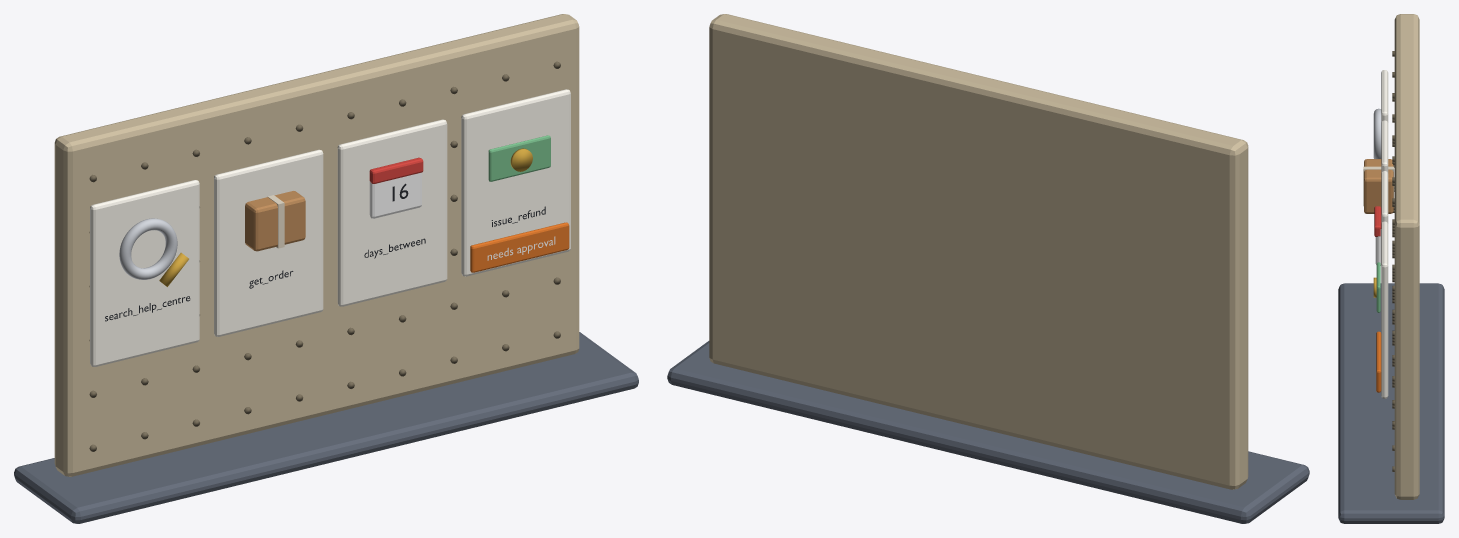
File: tools.glb
The picture shows the model from 3 angles, left to right: view 1: azimuth 30°, elevation 25°; view 2: azimuth 150°, elevation 25°; view 3: azimuth 270°, elevation 25°; orthographic projection. The views are drawn at different scales.
Visible parts, largest first — view 1: board, stand, card, card.002, card.001, card.003, tag, pk, rim, cal, note, h00 (+1 smaller); view 2: board, stand; view 3: stand, board, card.003, pk, h00, rim, card.001, card, card.002, tag, note, top (+2 smaller).
Boxes of the visible parts, x1,y1,x2,y2 form: board: (54, 14, 579, 476); stand: (14, 332, 638, 523); card: (90, 180, 199, 366); card.002: (337, 119, 447, 306); card.001: (214, 149, 323, 336); card.003: (461, 89, 570, 276); tag: (470, 222, 569, 272); pk: (245, 191, 305, 251); rim: (119, 218, 177, 279); cal: (369, 172, 421, 218); note: (488, 135, 550, 181); h00: (89, 61, 560, 451); board: (709, 14, 1248, 489); stand: (667, 341, 1309, 523); stand: (1338, 283, 1444, 523); board: (1394, 14, 1419, 499); card.003: (1381, 221, 1388, 398); pk: (1364, 159, 1393, 213); h00: (1392, 51, 1394, 471); rim: (1373, 108, 1381, 158); card.001: (1381, 120, 1388, 173); card: (1381, 70, 1388, 122); card.002: (1381, 171, 1388, 223); tag: (1376, 331, 1381, 392); note: (1376, 262, 1380, 312); top: (1374, 206, 1381, 236).
Size of the model in its own units: 1.1 by 0.65 by 0.213.
